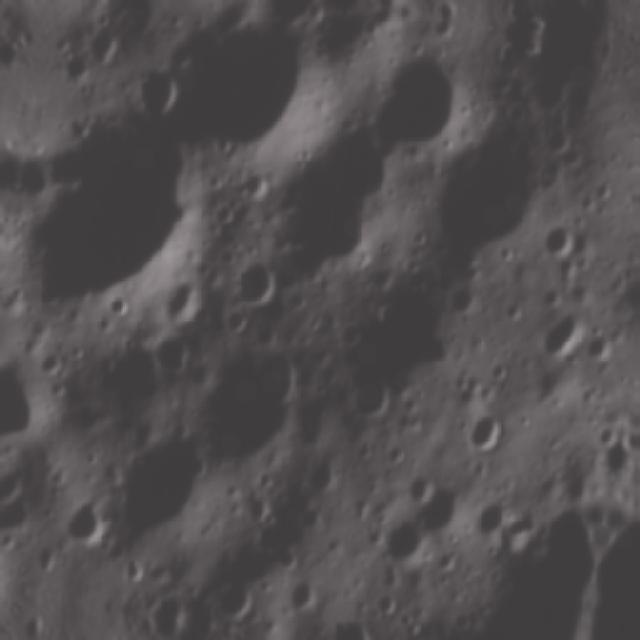crater: (0, 87, 226, 342), (154, 0, 332, 177), (417, 111, 577, 263), (355, 36, 499, 178), (98, 417, 237, 563), (198, 329, 327, 476), (0, 343, 72, 466), (124, 52, 193, 132), (337, 358, 406, 432), (536, 300, 601, 374), (58, 486, 122, 560), (376, 515, 447, 579), (226, 251, 286, 315), (462, 400, 521, 463), (148, 322, 206, 381), (461, 488, 514, 547), (534, 215, 588, 267), (280, 570, 331, 622), (81, 22, 130, 72), (399, 463, 447, 512), (235, 162, 283, 210), (370, 586, 410, 622)
